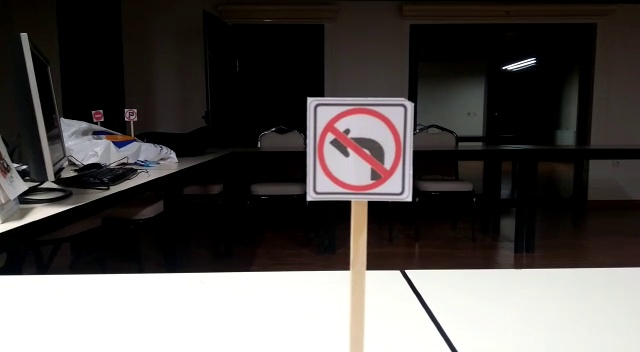sola_donulmez: (310, 103, 410, 199)
